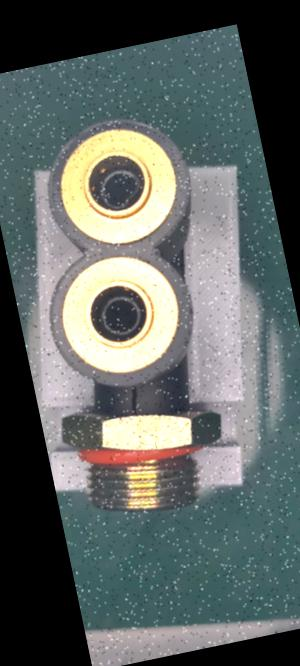craze: (126, 382, 147, 418)
off-centered: (94, 158, 152, 214)
